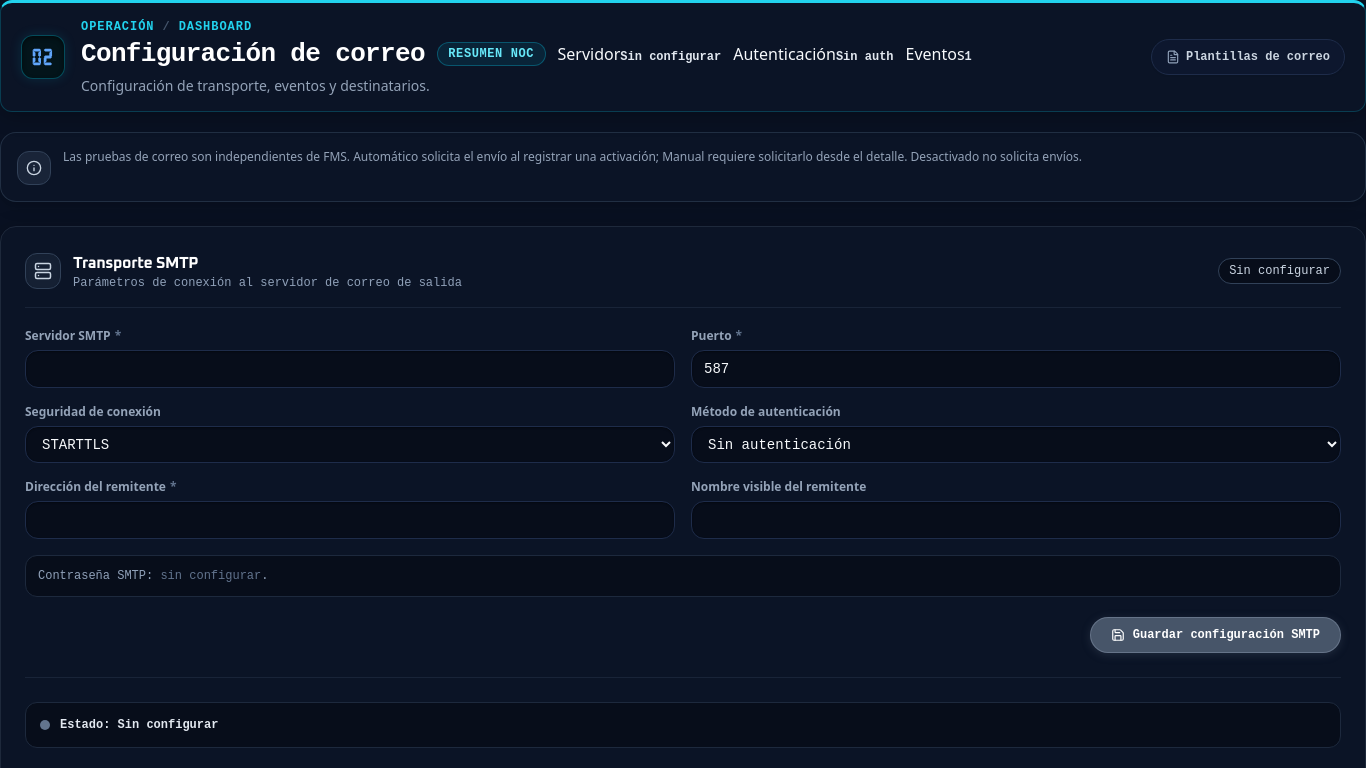
Test: Notificaciones por correo: solo configuración › requiere autorización explícita para guardar sin cifrado
This screenshot has width=1366, height=768.
Check: the form named "Configuración SMTP" is shown, box [25, 328, 1341, 653]
Type "smtp.example.com" into the field labelled "Servidor SMTP*".
click(350, 369); type("smtp.example.com")  # box [25, 350, 675, 388]
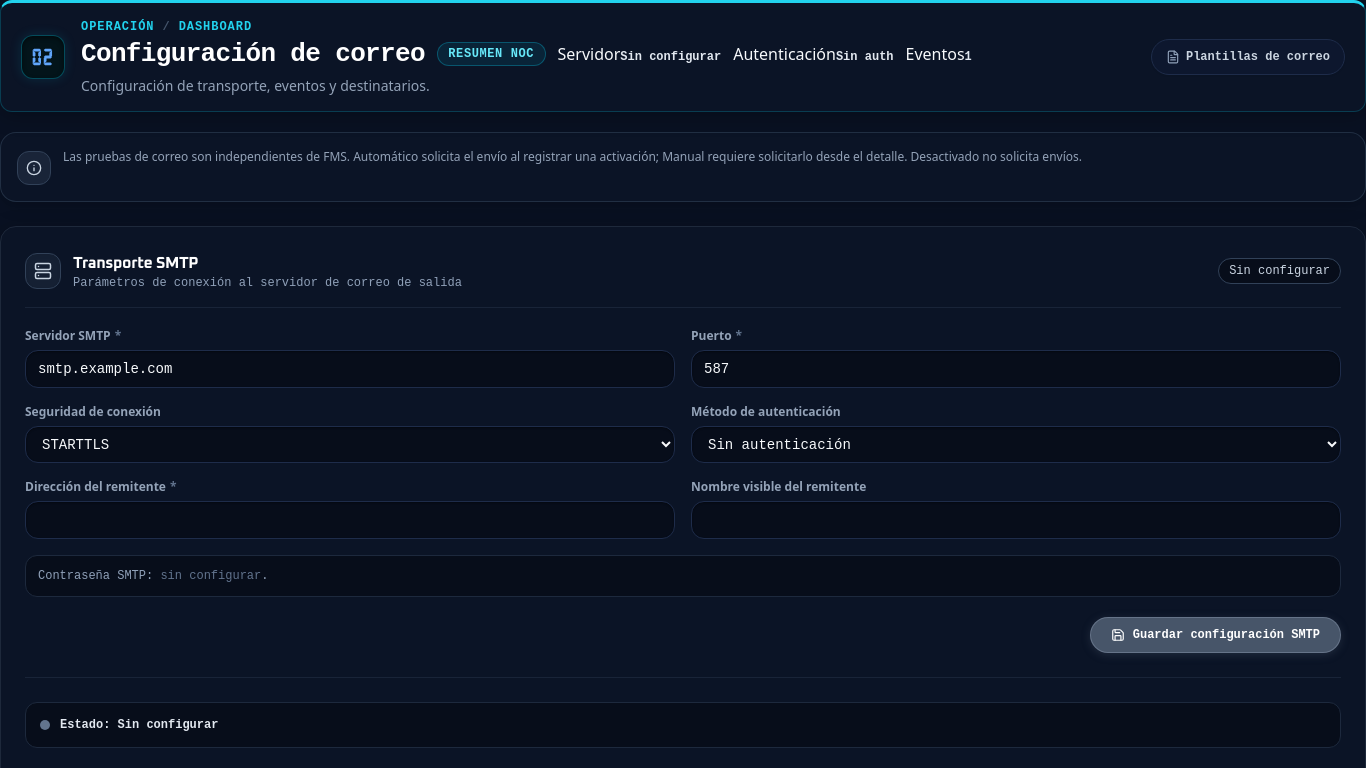
Type "noc@example.com" into the field labelled "Dirección del remitente*".
click(350, 520); type("noc@example.com")  # box [25, 501, 675, 539]
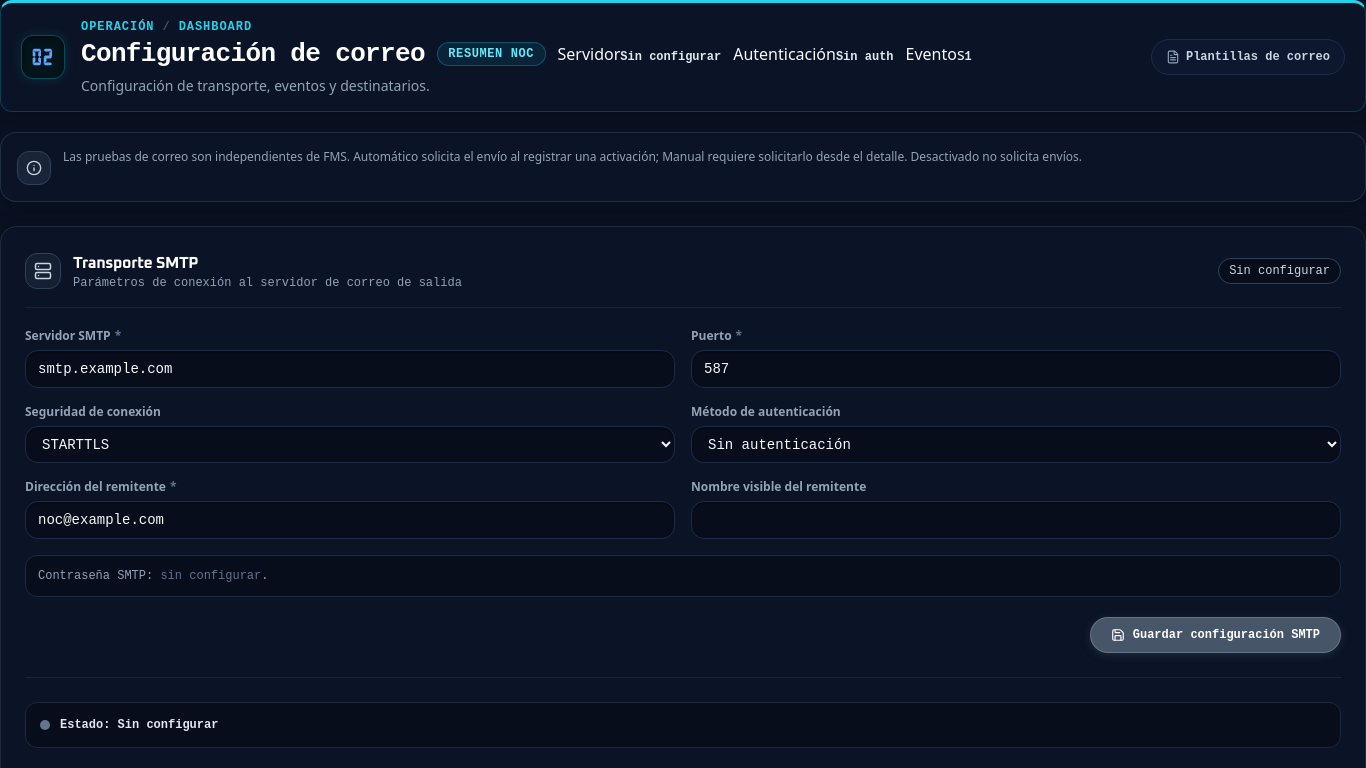
Select "Sin cifrado (relé local o confiable)" in the dropdown labelled "Seguridad de conexión" at (350, 445), box [25, 426, 675, 463]
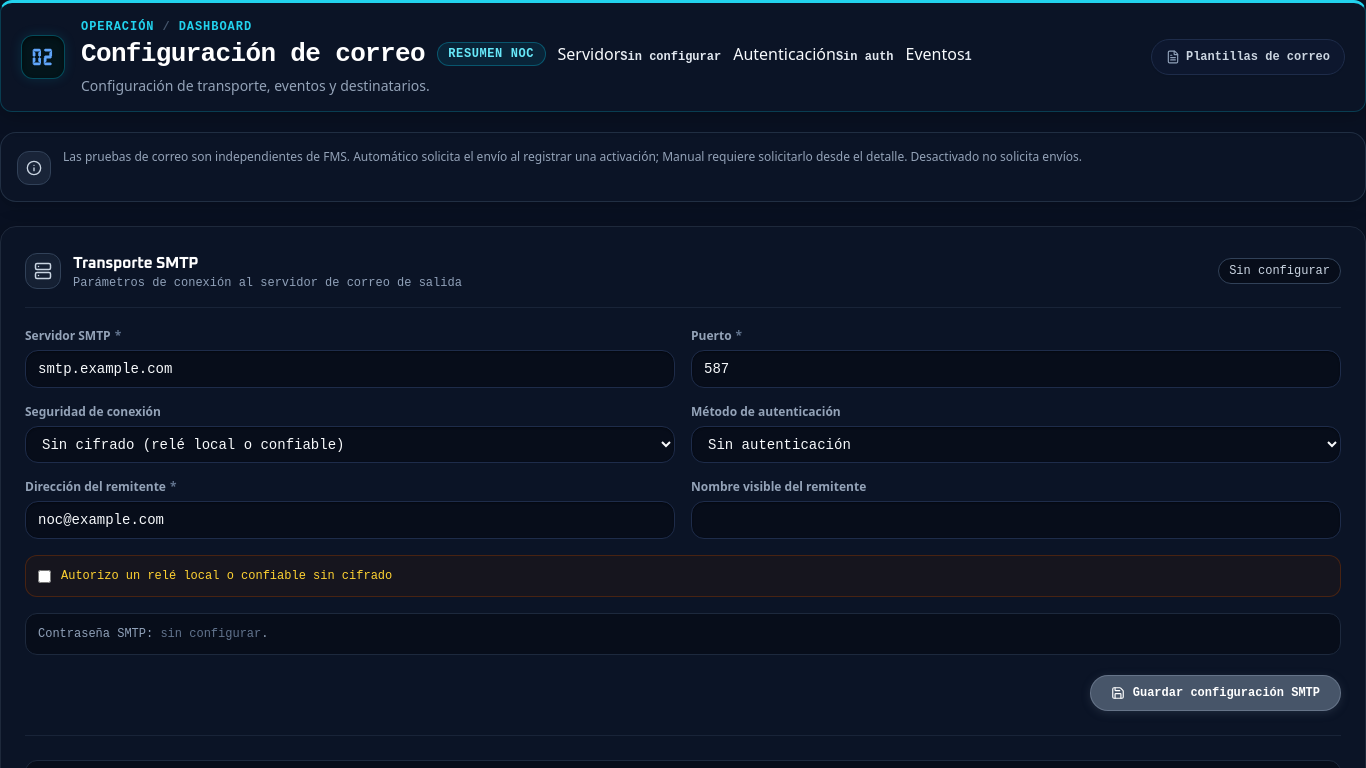
Click the button "Guardar configuración SMTP".
click(1215, 693)  # box [1090, 675, 1341, 711]
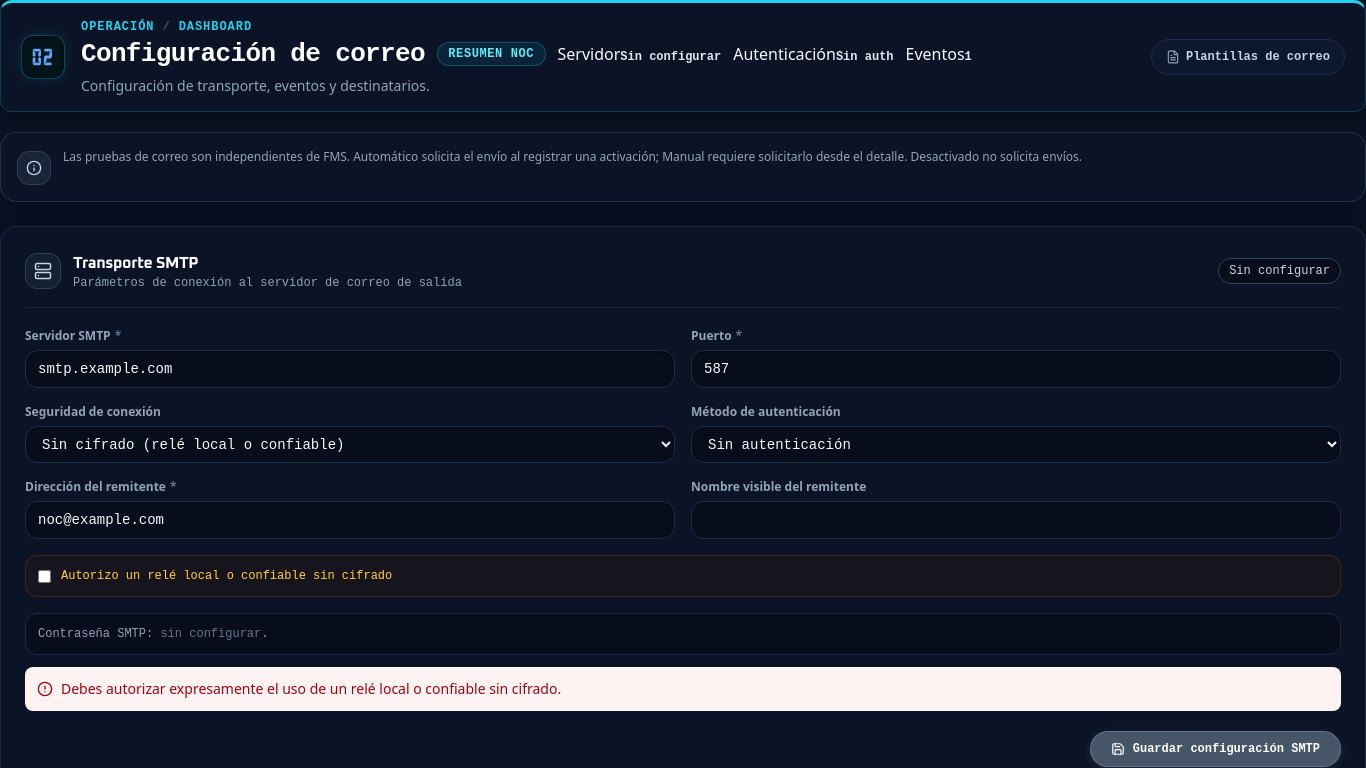
Check: the message shows "autorizar expresamente", box [61, 679, 561, 698]
Click the checkbox labelled "Autorizo un relé local o confiable sin cifrado".
click(44, 576)  # box [38, 570, 51, 583]
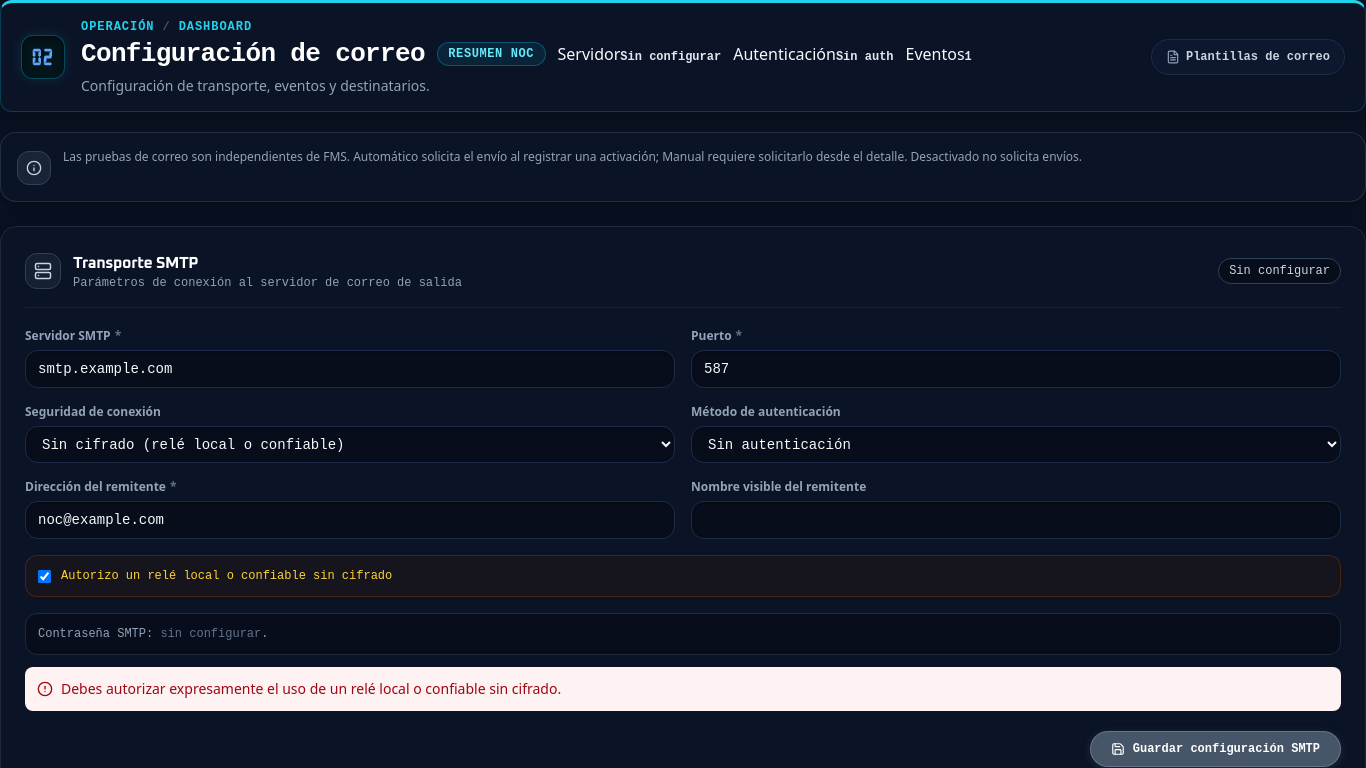
Click the button "Guardar configuración SMTP".
click(1215, 749)  # box [1090, 731, 1341, 767]
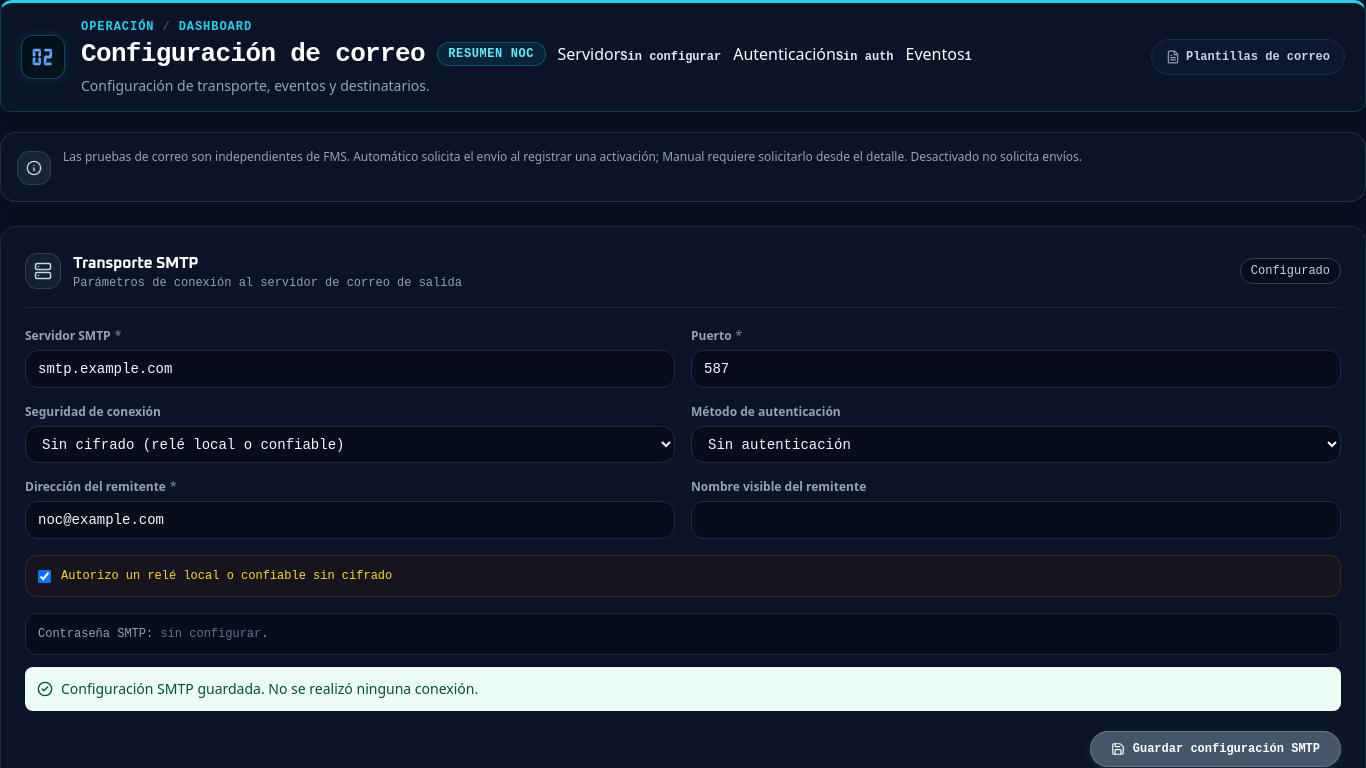
Check: the text "Configuración SMTP guardada. No se realizó ninguna conexión." is shown, box [61, 679, 478, 699]
